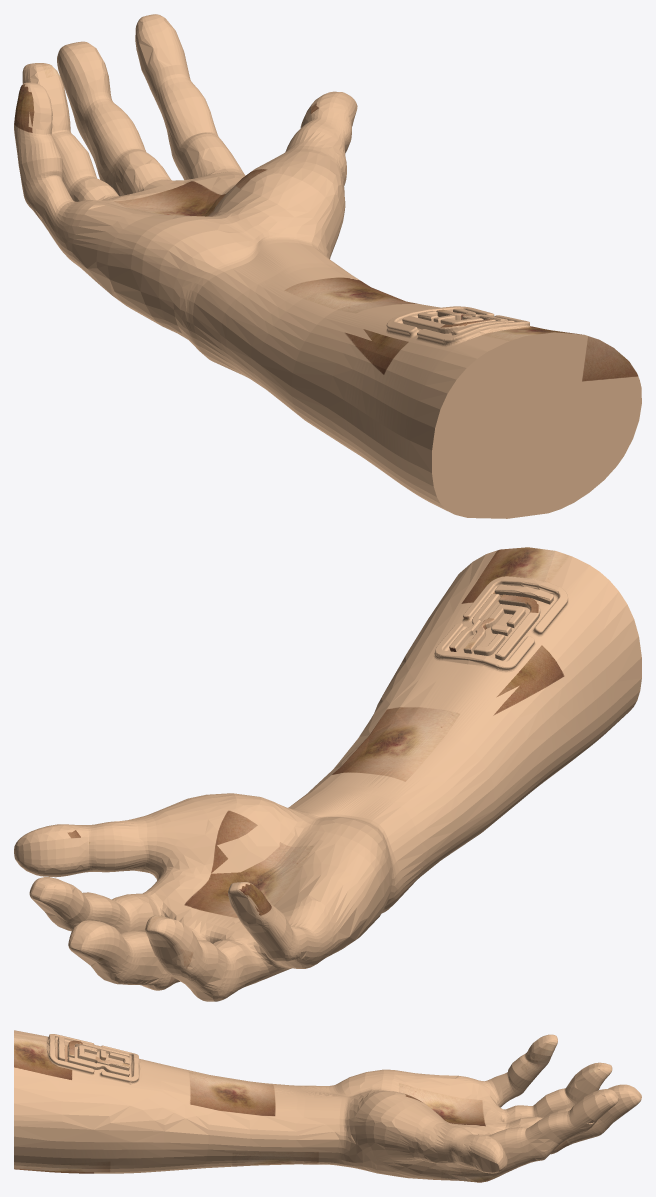
File: hand_bruise3.dae
3 views of the same model, one above another, from view 1: azimuth 30°, elevation 25°; view 2: azimuth 150°, elevation 25°; view 3: azimuth 270°, elevation 25° (orthographic). The views are drawn at different scales.
Visible parts, largest first — view 1: node0; view 2: node0; view 3: node0.
Part boxes in pixels (bbox=[...]): node0: bbox=[14, 14, 641, 518]; node0: bbox=[14, 547, 641, 1001]; node0: bbox=[14, 1030, 641, 1182].
Bounding box in the file's own units: 0.1743 × 0.4653 × 0.1043.
Materials: 1 (1 with a texture image).
